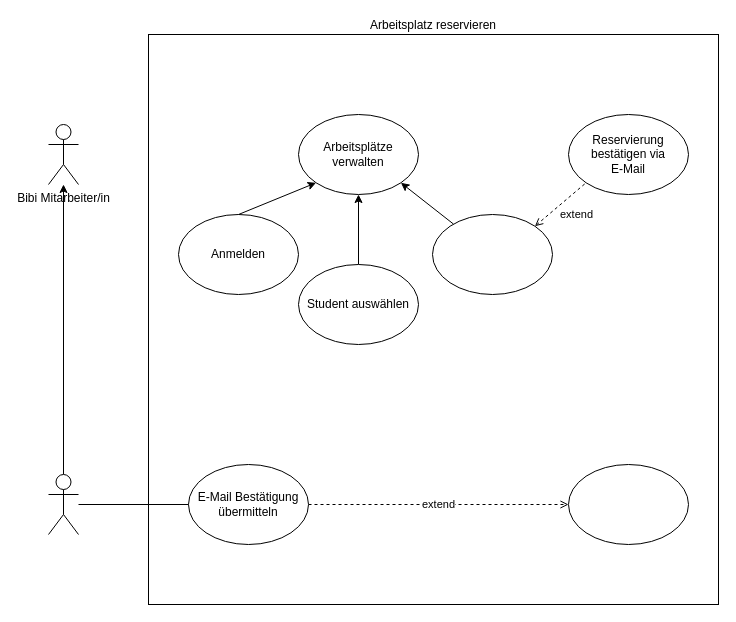
Image size: 736x622. Some labels were removed from this diagram. Each missing label, with the centre of its shape:
Arbeitsplatz reservieren / buchen: [492,254]
E-Mail durch Link bestätigen: [628,504]
Student: [63,504]
